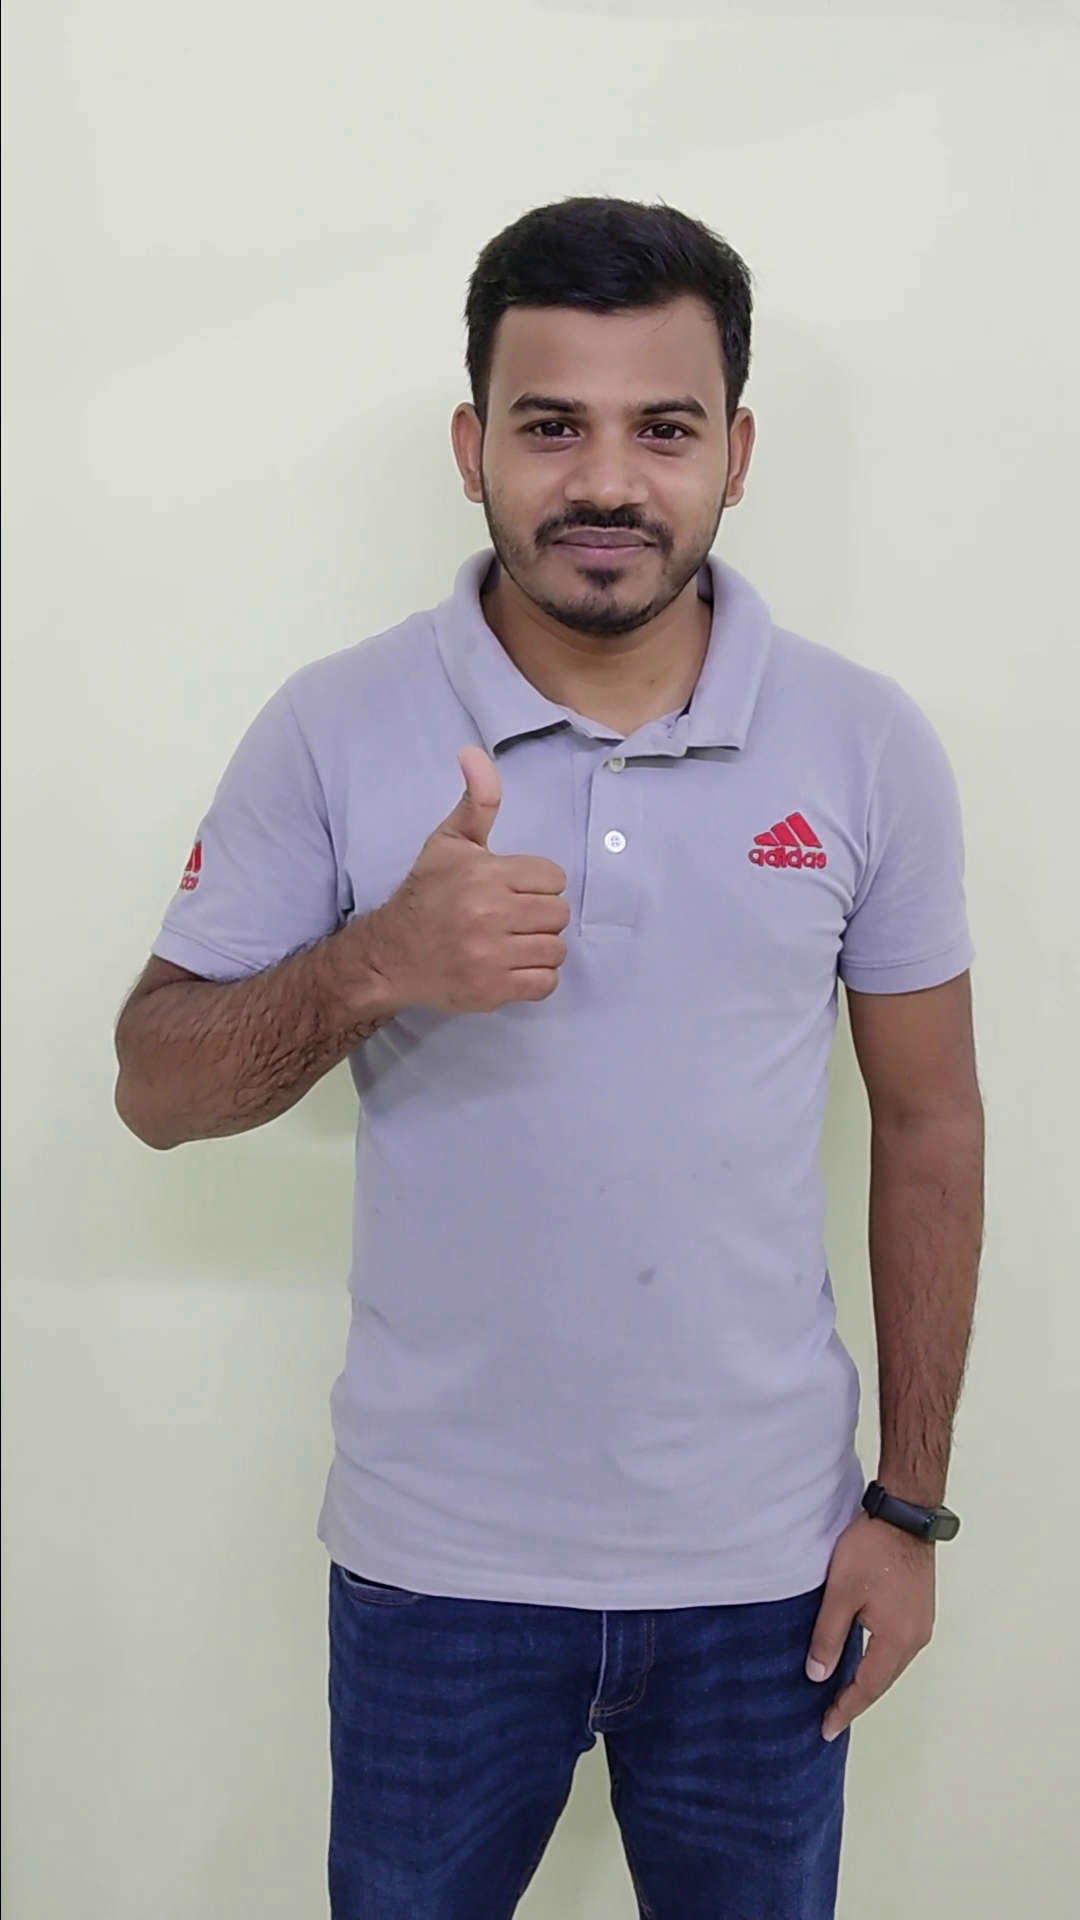Like: (367, 731, 587, 1030)
None: (794, 1457, 969, 1754)
